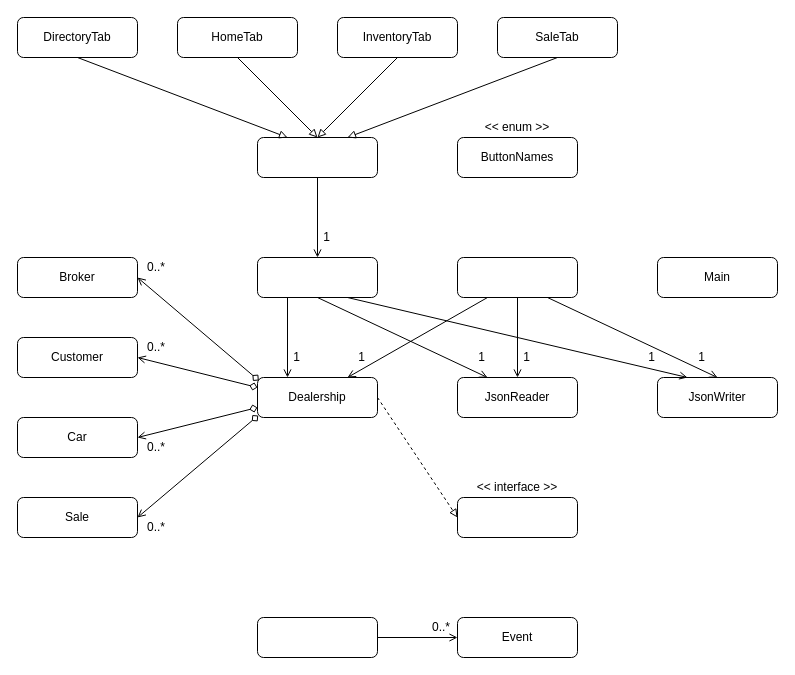
Some shapes in this 795 by 675 pixel diagram are drawn without their labels. The shapes that lost their labels are listed below. From the top down, each one's box as (x1, y1, x2, y2) in pixels, then its label:
(256, 136, 378, 178): Tab
(256, 256, 378, 298): DealershipUI
(456, 256, 578, 298): DealershipApp
(456, 496, 578, 538): Writable
(256, 616, 378, 658): EventLog
